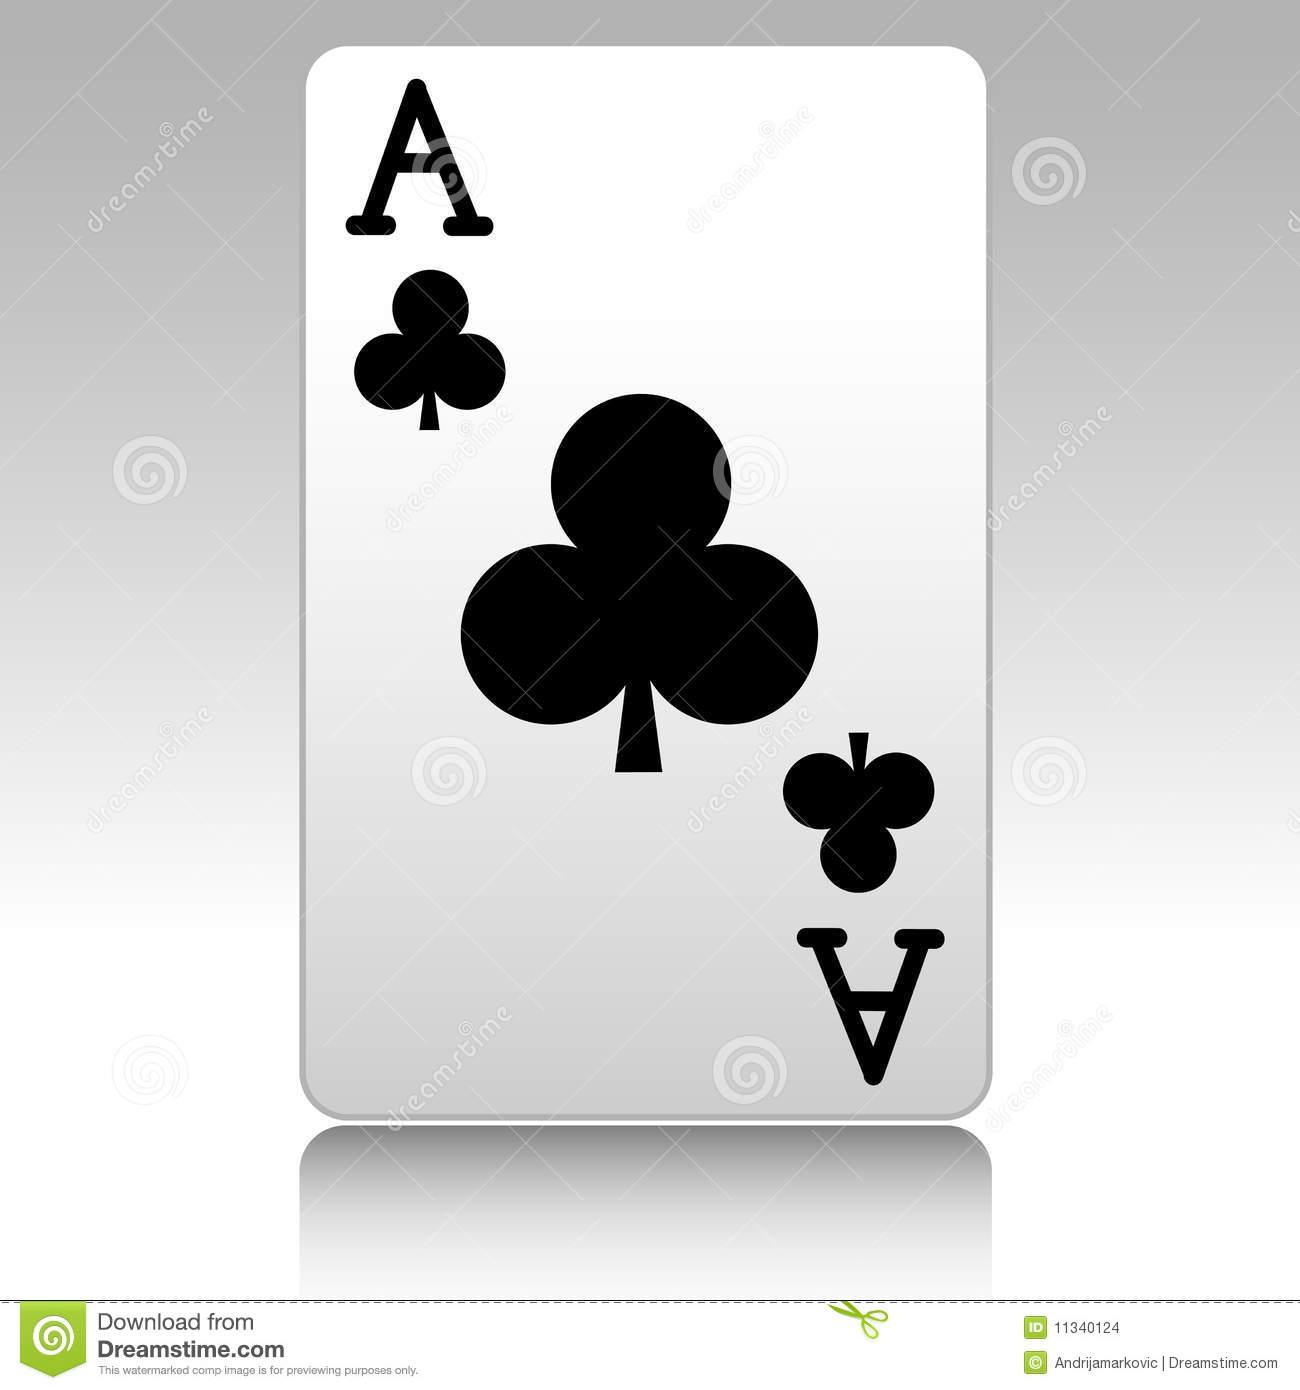ace of clubs: (304, 39, 991, 1124)
